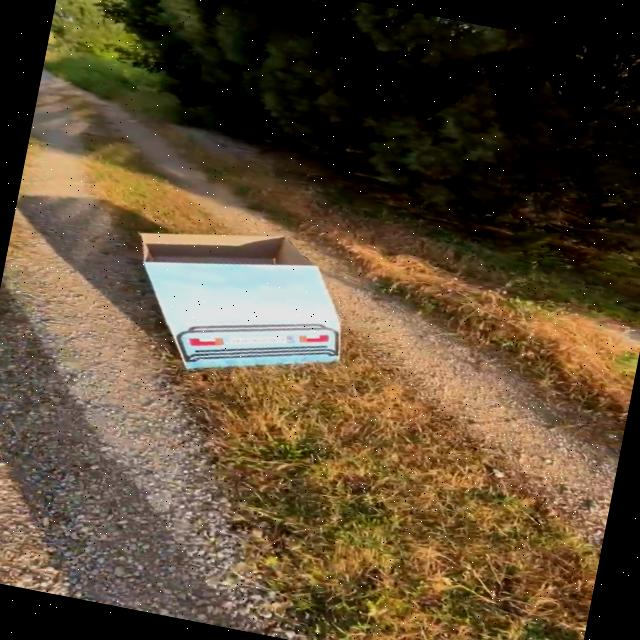blue_car: (89, 195, 399, 409)
